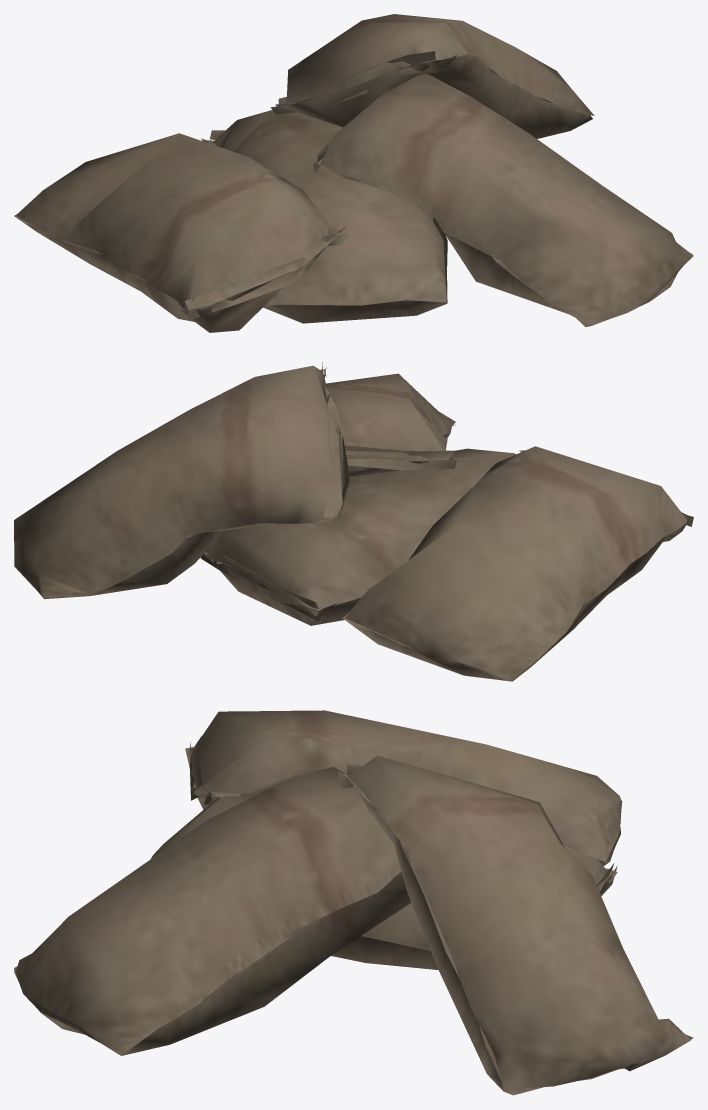
The model's file is vc_bags.glb.
3 renders of one model, top to bottom at view 1: azimuth 30°, elevation 25°; view 2: azimuth 150°, elevation 25°; view 3: azimuth 270°, elevation 25°, orthographic. The views are drawn at different scales.
Visible parts, largest first — view 1: Juta_Bag_1.001_Juta_Bag_1_0; view 2: Juta_Bag_1.001_Juta_Bag_1_0; view 3: Juta_Bag_1.001_Juta_Bag_1_0.
Part boxes in pixels (box(x1,y1,x2,y2)): Juta_Bag_1.001_Juta_Bag_1_0: box(14, 14, 693, 332); Juta_Bag_1.001_Juta_Bag_1_0: box(14, 362, 693, 681); Juta_Bag_1.001_Juta_Bag_1_0: box(14, 710, 693, 1095).
Size of the model in its own units: 1.82 by 0.5845 by 1.7.
1 material, 1 textured.
